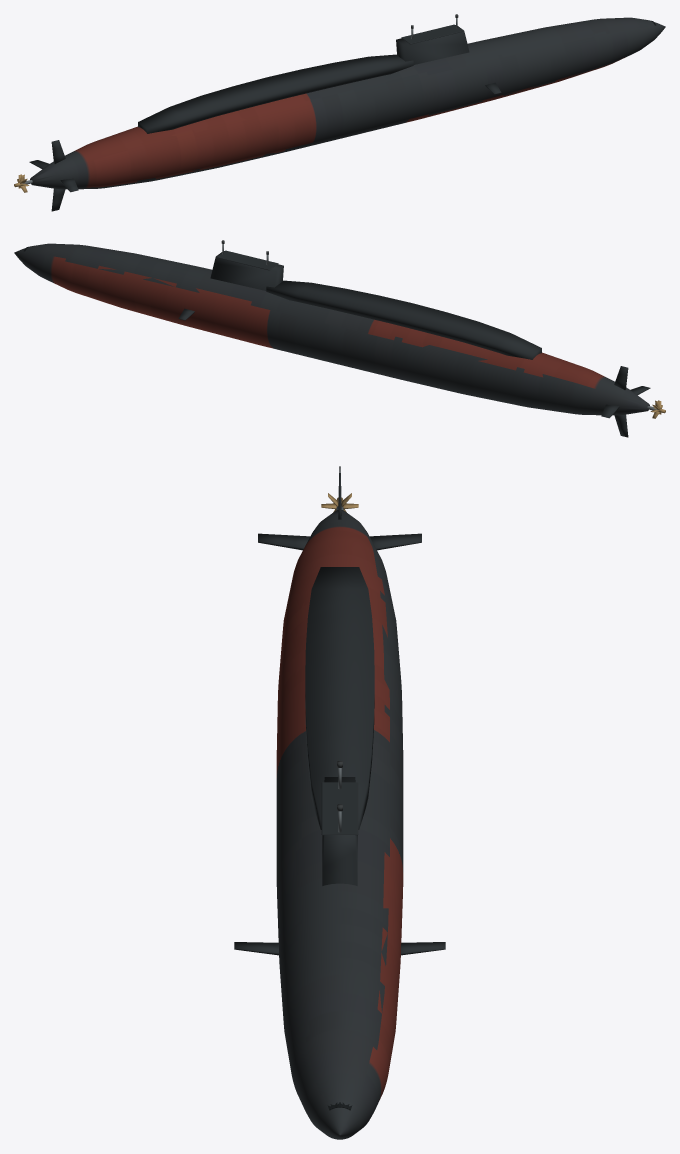
File: RU_SSBN_DeltaI_LOD1.fbx
3 views of the same model, one above another, from view 1: azimuth 30°, elevation 25°; view 2: azimuth 150°, elevation 25°; view 3: azimuth 270°, elevation 25° (orthographic). The views are drawn at different scales.
Visible parts, largest first — view 1: RU_SSBN_DeltaI_LOD1; view 2: RU_SSBN_DeltaI_LOD1; view 3: RU_SSBN_DeltaI_LOD1.
Part boxes in pixels (<box>): RU_SSBN_DeltaI_LOD1: <box>14,14,665,211</box>; RU_SSBN_DeltaI_LOD1: <box>14,240,665,437</box>; RU_SSBN_DeltaI_LOD1: <box>234,466,445,1139</box>.
Bounding box in the file's own units: 143 × 20.06 × 20.46.
Materials: 6 (1 with a texture image).
